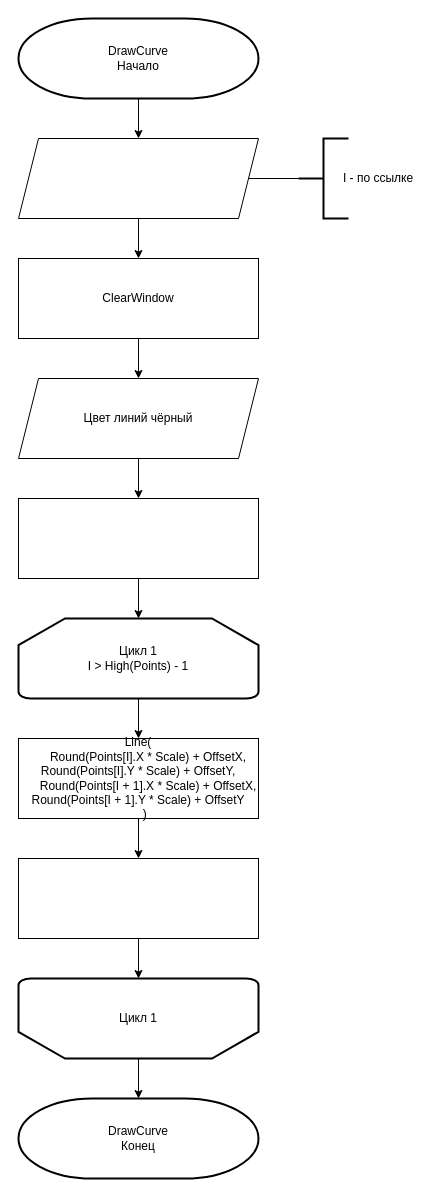
This 445x1196 diagram has some shape labels left out. Here are the shapes that lost their labels. From the top down, the box of each, then its label:
(18, 138, 258, 218): Ввод I
(18, 498, 258, 578): I := 0
(18, 858, 258, 938): I += 1
